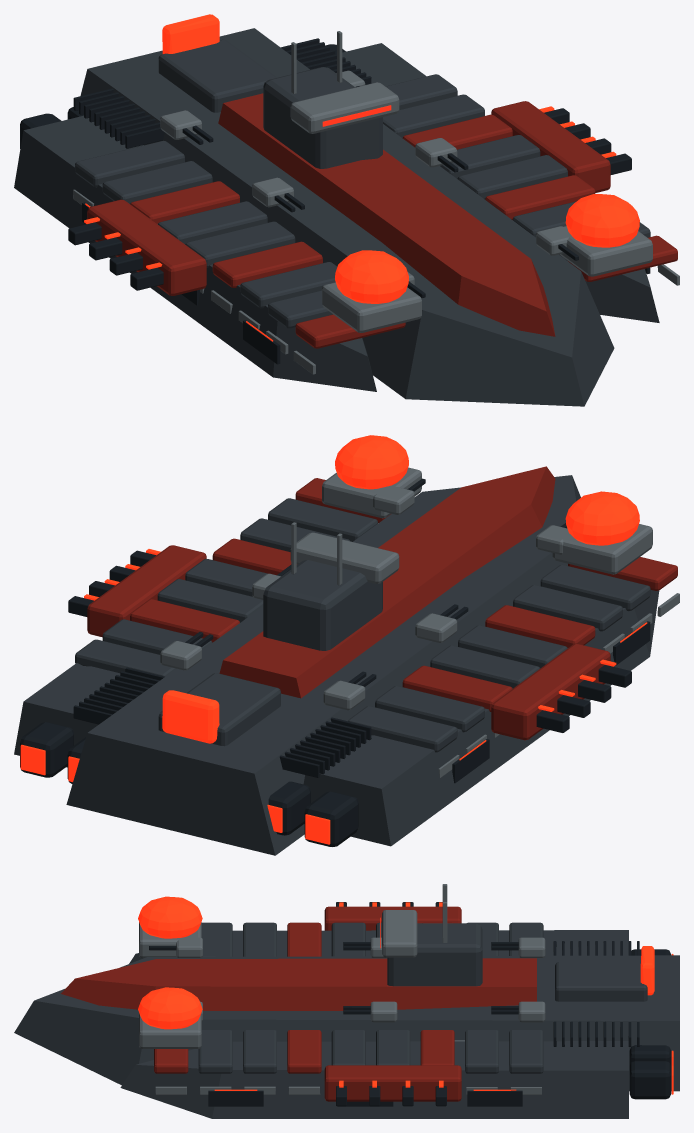
Rendered from capital_blockade.glb.
The picture shows the model from 3 angles, top to bottom: view 1: azimuth 30°, elevation 25°; view 2: azimuth 150°, elevation 25°; view 3: azimuth 270°, elevation 25°; orthographic projection. The views are drawn at different scales.
Parts seen in each view (by area): view 1: Hull, battery_port, battery_starboard, shield_starboard, shield_port, reactor; view 2: Hull, battery_port, battery_starboard, shield_port, shield_starboard, reactor; view 3: Hull, battery_starboard, shield_port, shield_starboard, battery_port, reactor.
Boxes of the visible parts, x1=… form: Hull: x1=14, y1=28, x2=679, y2=406; battery_port: x1=68, y1=199, x2=206, y2=295; battery_starboard: x1=491, y1=101, x2=631, y2=192; shield_starboard: x1=565, y1=194, x2=639, y2=247; shield_port: x1=335, y1=250, x2=408, y2=303; reactor: x1=162, y1=14, x2=219, y2=53; Hull: x1=14, y1=466, x2=679, y2=855; battery_port: x1=491, y1=644, x2=631, y2=740; battery_starboard: x1=68, y1=545, x2=206, y2=637; shield_port: x1=565, y1=491, x2=639, y2=545; shield_starboard: x1=335, y1=435, x2=408, y2=489; reactor: x1=162, y1=690, x2=219, y2=743; Hull: x1=14, y1=884, x2=679, y2=1118; battery_starboard: x1=324, y1=1065, x2=461, y2=1106; shield_port: x1=138, y1=896, x2=202, y2=938; shield_starboard: x1=138, y1=987, x2=202, y2=1029; battery_port: x1=324, y1=902, x2=461, y2=930; reactor: x1=640, y1=946, x2=654, y2=995.
Bounding box in the file's own units: 498 × 187 × 720.
